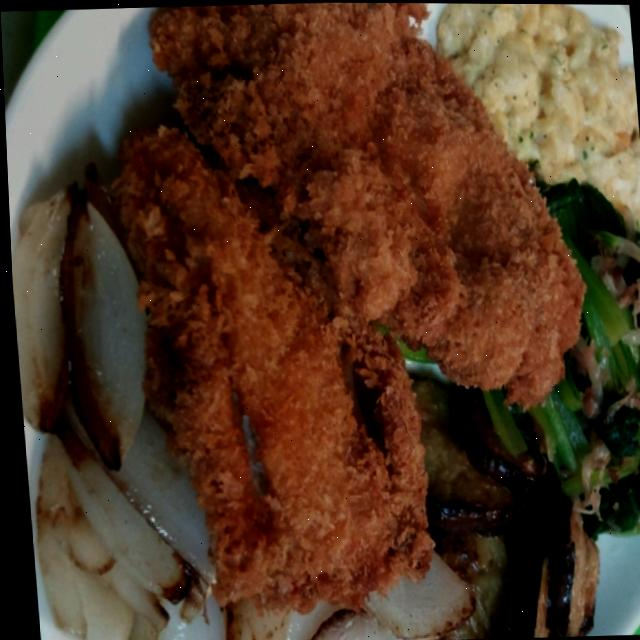鸡肉料理 含炸鸡: (17, 5, 628, 631)
